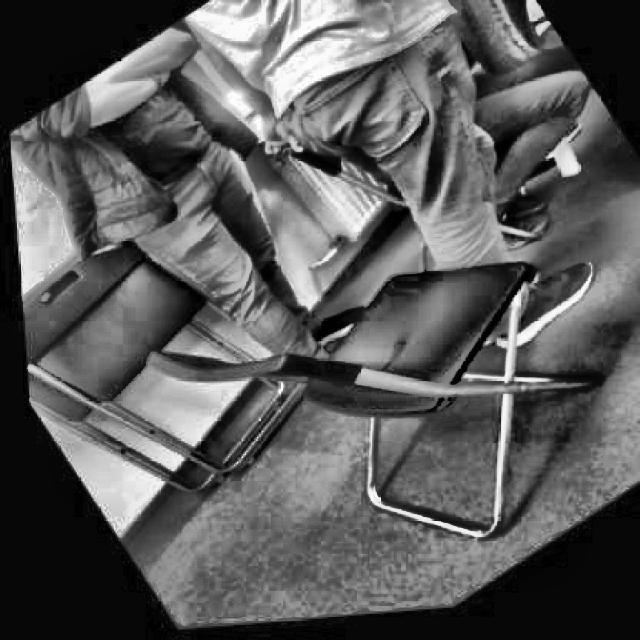cadeira: (104, 118, 638, 634)
